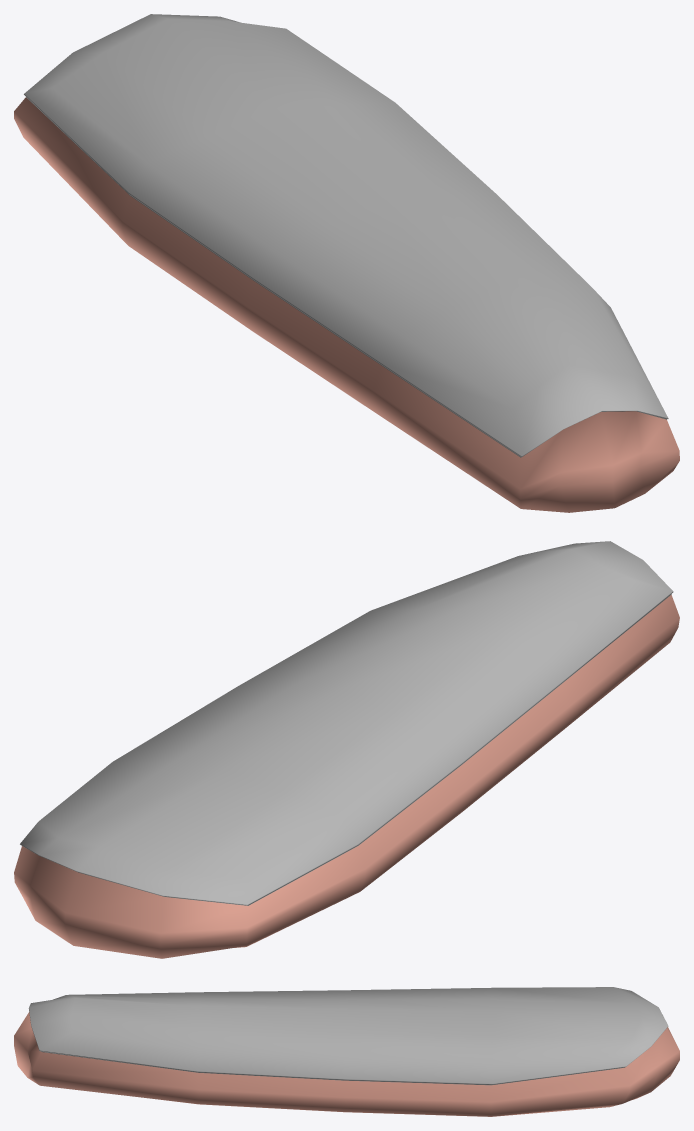
Rendered from Carp.fbx.
3 views of the same model, one above another, from view 1: azimuth 30°, elevation 25°; view 2: azimuth 150°, elevation 25°; view 3: azimuth 270°, elevation 25° (orthographic). The views are drawn at different scales.
Visible parts, largest first — view 1: Cod; view 2: Cod; view 3: Cod.
Part boxes in pixels (<box>): Cod: <box>14,14,679,512</box>; Cod: <box>14,541,679,958</box>; Cod: <box>14,987,679,1116</box>.
Bounding box in the file's own units: 6.13 × 2.46 × 19.06.
